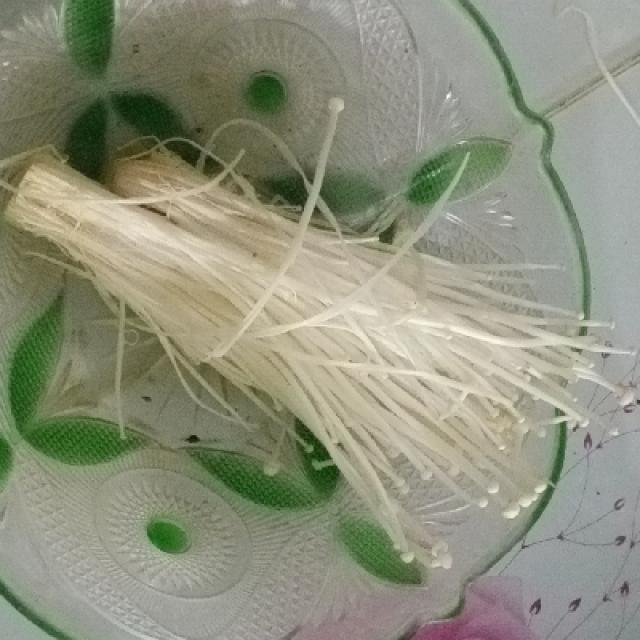Flammulina velutiper: (5, 140, 637, 569)
